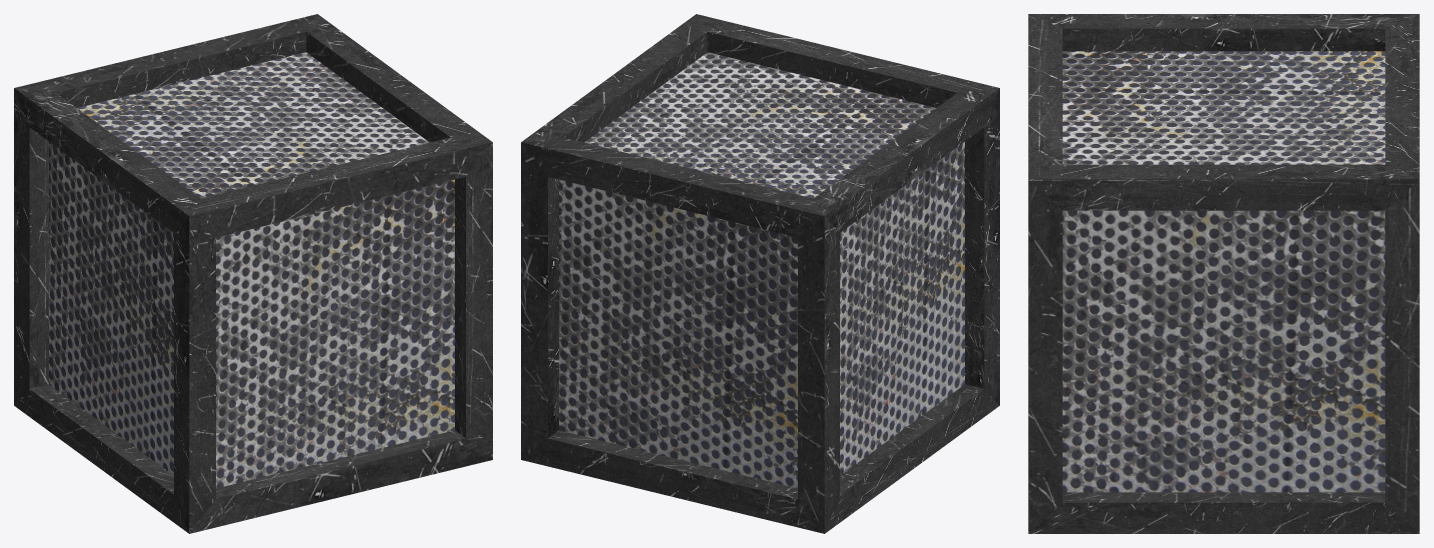
Rendered from BorderBlock.glb.
3 renders of one model, left to right at view 1: azimuth 30°, elevation 25°; view 2: azimuth 150°, elevation 25°; view 3: azimuth 270°, elevation 25°, orthographic. The views are drawn at different scales.
Parts seen in each view (by area): view 1: Cube; view 2: Cube; view 3: Cube.
Boxes of the visible parts, bbox=[...] form: Cube: bbox=[14, 14, 492, 533]; Cube: bbox=[521, 14, 999, 533]; Cube: bbox=[1028, 14, 1419, 533].
Bounding box in the file's own units: 2 × 2 × 2.
Materials: 1 (1 with a texture image).
